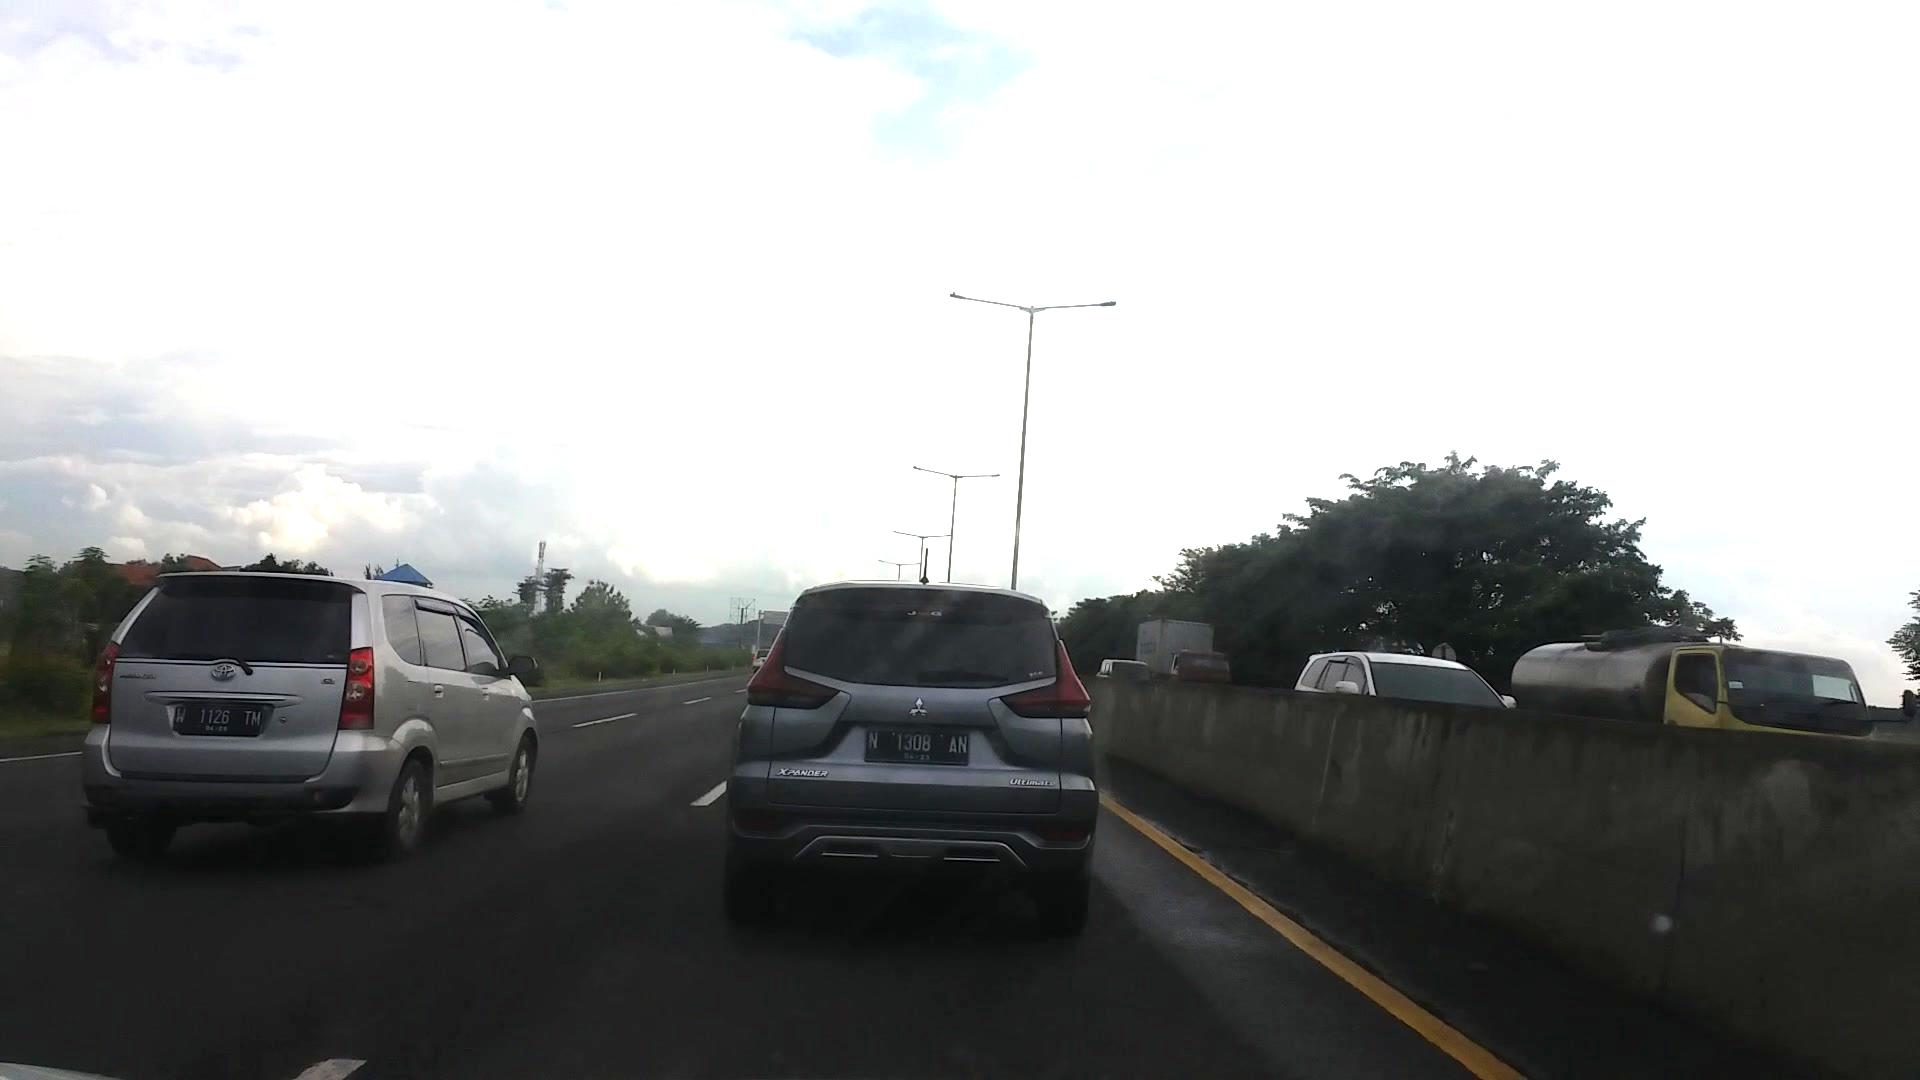plate_positive: (865, 729, 968, 765), (173, 705, 262, 737)
